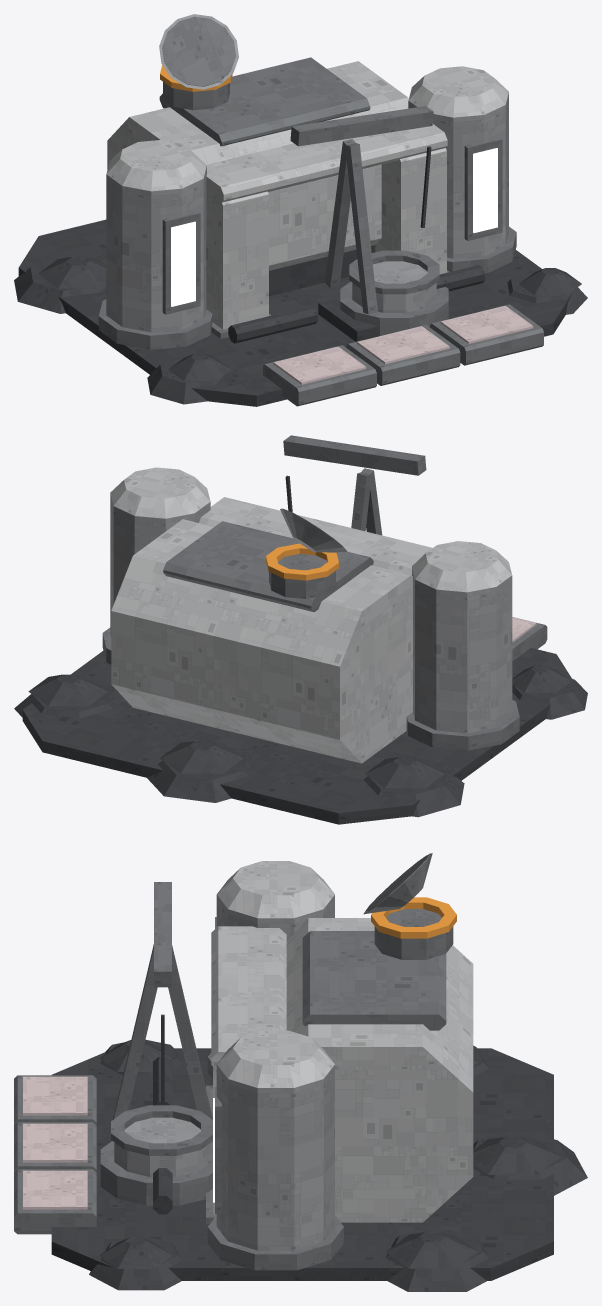
Rendered from rig_brine_lod2.glb.
3 views of the same model, one above another, from view 1: azimuth 30°, elevation 25°; view 2: azimuth 150°, elevation 25°; view 3: azimuth 270°, elevation 25° (orthographic). The views are drawn at different scales.
Parts seen in each view (by area): view 1: rig_brine_base_body.002, rig_brine_salt_body.002, rig_brine_dish_body.002, rig_brine_brine_glow.002, rig_brine_pump_body.002; view 2: rig_brine_base_body.002, rig_brine_pump_body.002, rig_brine_base_trim.002, rig_brine_dish_body.002; view 3: rig_brine_base_body.002, rig_brine_salt_body.002, rig_brine_pump_body.002, rig_brine_base_trim.002, rig_brine_dish_body.002.
Part boxes in pixels (<box>): rig_brine_base_body.002: <box>14,57,587,406</box>; rig_brine_salt_body.002: <box>273,305,533,384</box>; rig_brine_dish_body.002: <box>159,14,238,89</box>; rig_brine_brine_glow.002: <box>171,148,497,306</box>; rig_brine_pump_body.002: <box>290,106,433,227</box>; rig_brine_base_body.002: <box>14,467,587,824</box>; rig_brine_pump_body.002: <box>283,435,426,512</box>; rig_brine_base_trim.002: <box>266,543,338,580</box>; rig_brine_dish_body.002: <box>280,508,347,552</box>; rig_brine_base_body.002: <box>14,861,587,1291</box>; rig_brine_salt_body.002: <box>23,1076,87,1209</box>; rig_brine_pump_body.002: <box>154,882,171,1103</box>; rig_brine_base_trim.002: <box>371,897,456,938</box>; rig_brine_dish_body.002: <box>363,853,432,914</box>.
Bounding box in the file's own units: 3.22 × 1.76 × 3.2.
Materials: 3 (1 with a texture image).
